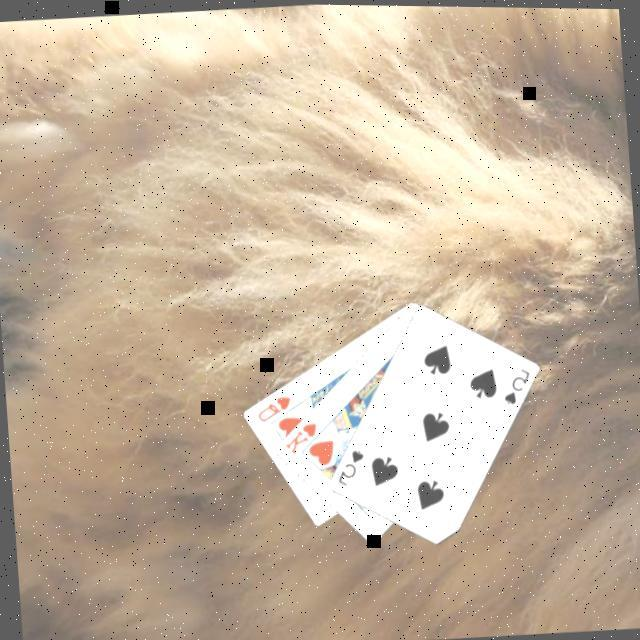5S: (332, 445, 369, 489), (498, 364, 535, 408)
KH: (280, 419, 322, 458)
QH: (254, 392, 296, 426)
